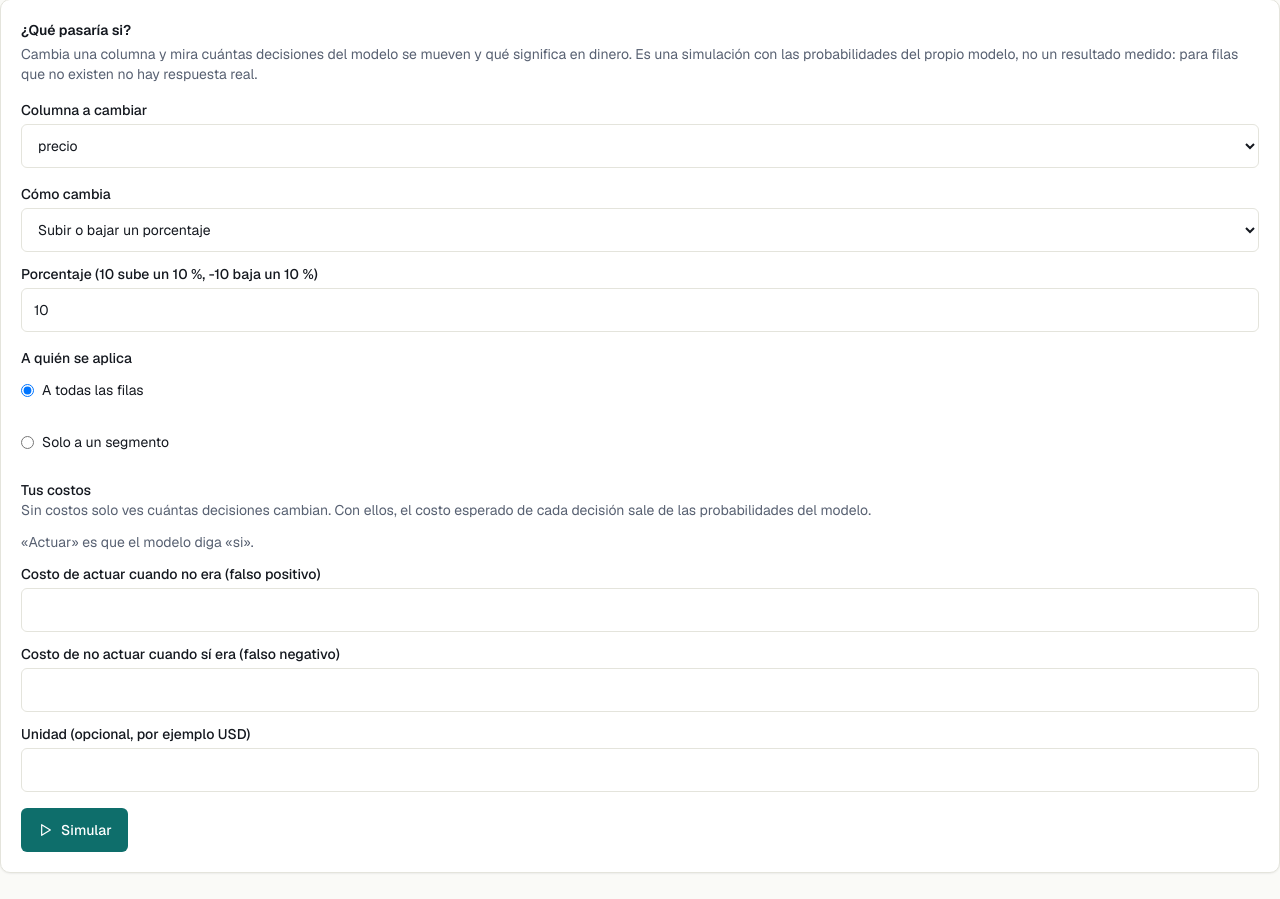
el panel «¿Qué pasaría si?» › una lectura de otro modelo no se enseña
Click the button "Simular".
click(74, 830)  # box [21,808,128,852]
(page scrolled)
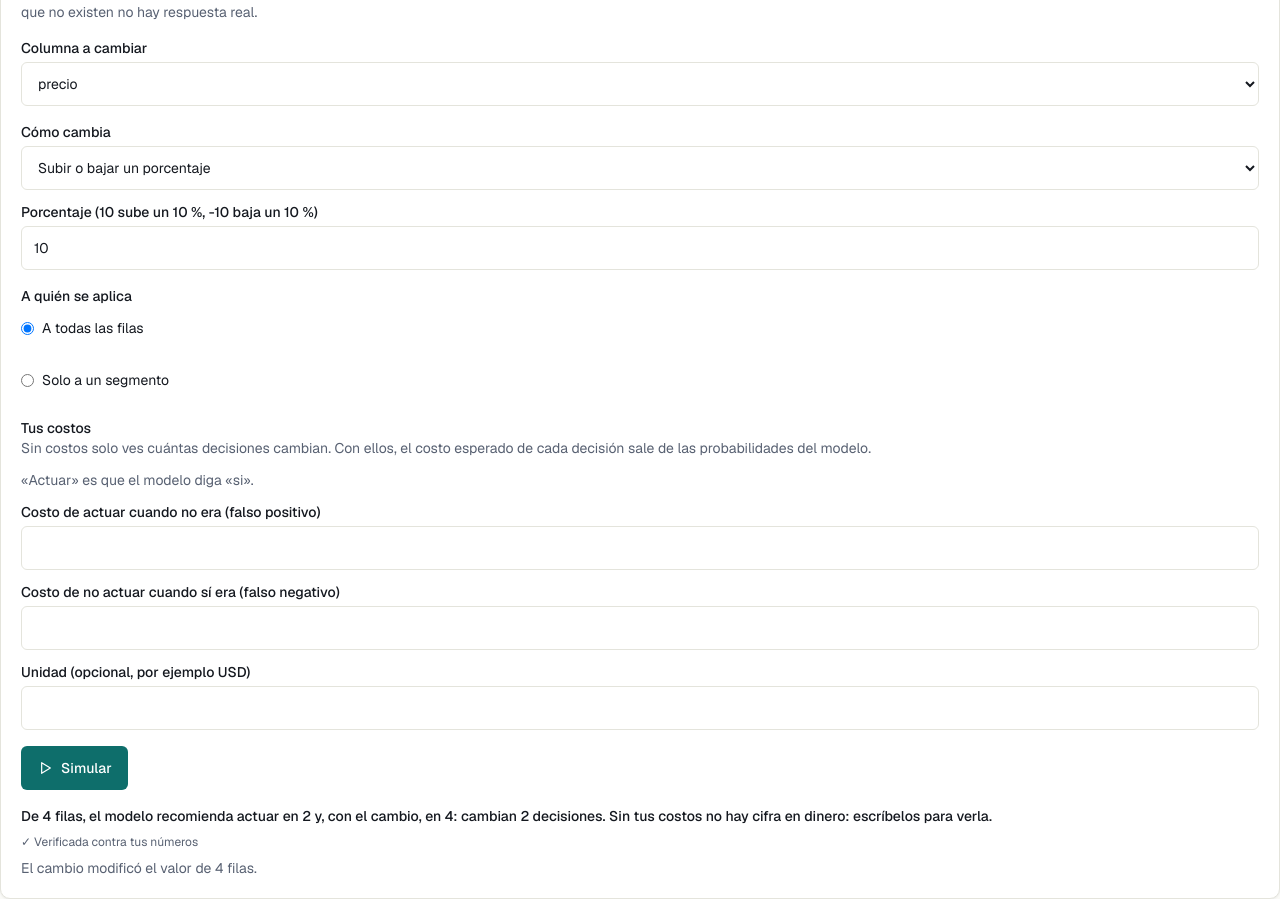
Result: the element with test id "simulador-lectura" is shown at [21,807,992,877]
